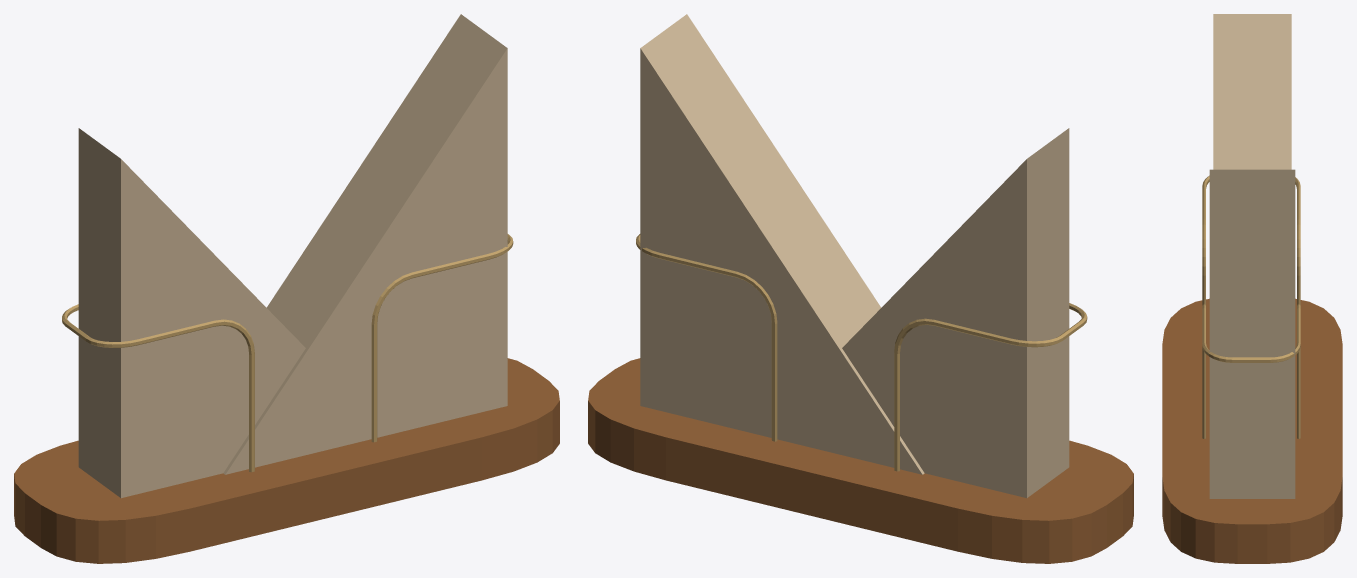
File: Napkin.fbx
3 views of the same model, side by side, from view 1: azimuth 30°, elevation 25°; view 2: azimuth 150°, elevation 25°; view 3: azimuth 270°, elevation 25° (orthographic). The views are drawn at different scales.
Visible parts, largest first — view 1: Napkin; view 2: Napkin; view 3: Napkin.
Part boxes in pixels (bbox=[...]): Napkin: bbox=[14, 14, 559, 563]; Napkin: bbox=[588, 14, 1133, 563]; Napkin: bbox=[1162, 14, 1342, 563].
Bounding box in the file's own units: 25.11 × 18.94 × 8.4.
1 material, 1 textured.
